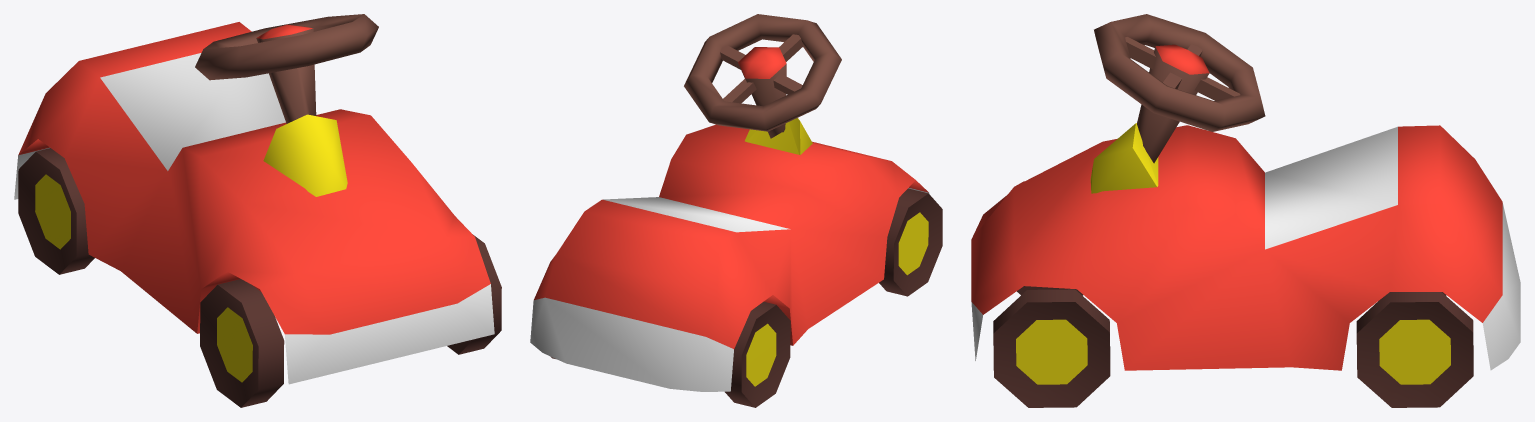
The model's file is toy_001.glb.
3 renders of one model, left to right at view 1: azimuth 30°, elevation 25°; view 2: azimuth 150°, elevation 25°; view 3: azimuth 270°, elevation 25°, orthographic. The views are drawn at different scales.
Visible parts, largest first — view 1: toy_001; view 2: toy_001; view 3: toy_001.
Part boxes in pixels (box(x1,y1,x2,y2)): toy_001: box(14, 14, 501, 407); toy_001: box(530, 14, 942, 407); toy_001: box(971, 14, 1520, 407).
Size of the model in its own units: 0.3026 by 0.3767 by 0.5902.
1 material, 1 textured.
